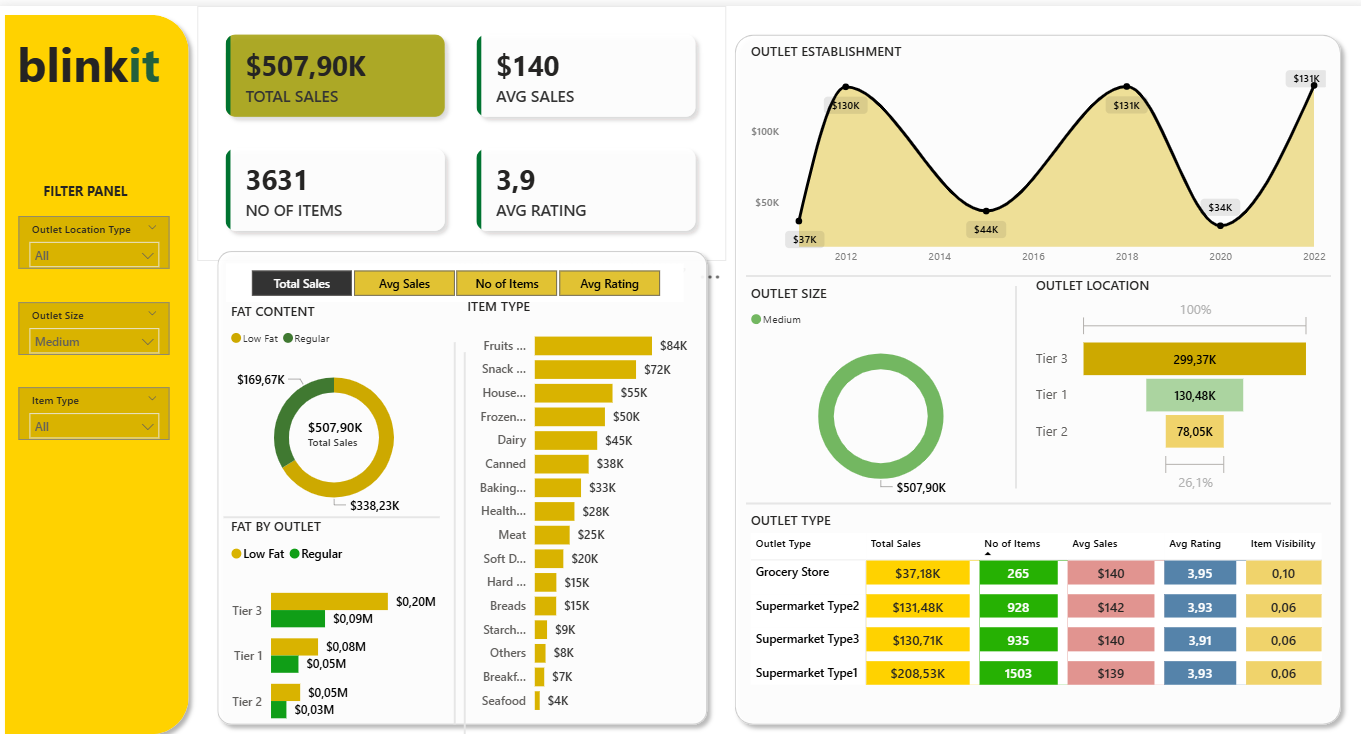

What the dashboard file says about the page in this screenshot:
{"tool":"powerbi","page":{"name":"Page 1","canvas":[1400,800],"ordinal":0},"visuals":[{"type":"shape","box":[0,0,205,750],"z":0},{"type":"textbox","box":[16.5,20.3,171.7,75],"z":1000},{"type":"textbox","box":[12.7,78.9,175.5,31.8],"z":2000},{"type":"cardVisual","fields":{"Data":["BlinkIT Grocery Data.Total Sales","BlinkIT Grocery Data.Avg Sales","BlinkIT Grocery Data.No of Items","BlinkIT Grocery Data.Avg Rating"]},"box":[204.8,0,538,259.4],"z":3000},{"type":"shape","box":[216.2,240.4,516.4,499.8],"z":4000},{"type":"donutChart","title":" FAT CONTENT","fields":{"Y":["BlinkIT Grocery Data.Total Sales"],"Category":["BlinkIT Grocery Data.Item Fat Content"]},"box":[234,301.4,220,230.2],"z":5000},{"type":"slicer","fields":{"Values":["Metrics.Metrics"]},"box":[234,262,465.5,39.4],"z":6000},{"type":"cardVisual","fields":{"Data":["BlinkIT Grocery Data.Total Sales"]},"box":[300.1,400.6,153.9,68.7],"z":7000},{"type":"clusteredBarChart","title":"FAT BY OUTLET","fields":{"Y":["BlinkIT Grocery Data.Total Sales"],"Category":["BlinkIT Grocery Data.Outlet Location Type"],"Series":["BlinkIT Grocery Data.Item Fat Content"]},"box":[234,520.2,220,230.2],"z":8000},{"type":"shape","box":[231.5,515.1,220,10.2],"z":9000},{"type":"shape","box":[451.5,342.1,30.5,389.2],"z":10000},{"type":"barChart","title":" ITEM TYPE","fields":{"Y":["BlinkIT Grocery Data.Total Sales"],"Category":["BlinkIT Grocery Data.Item Type"]},"box":[474.4,296.3,242.9,435],"z":11000},{"type":"shape","box":[742.7,20.3,634.6,719.8],"z":12000},{"type":"lineChart","title":"OUTLET ESTABLISHMENT","fields":{"Category":["BlinkIT Grocery Data.Outlet Establishment Year"],"Y":["BlinkIT Grocery Data.Total Sales"]},"box":[763.1,36.9,595.2,235.3],"z":13000},{"type":"shape","box":[763.1,498.5,595.2,15.3],"z":14000},{"type":"donutChart","title":" OUTLET SIZE","fields":{"Y":["BlinkIT Grocery Data.Total Sales"],"Category":["BlinkIT Grocery Data.Outlet Size"]},"box":[763.1,282.3,274.7,225.1],"z":15000},{"type":"shape","box":[1022.5,284.9,30.5,206],"z":16000},{"type":"funnel","title":" OUTLET LOCATION","fields":{"Y":["Sum(BlinkIT Grocery Data.Sales)"],"Category":["BlinkIT Grocery Data.Outlet Location Type"]},"box":[1053.1,274.7,290,225.1],"z":17000},{"type":"shape","box":[461.5,352.1,30.5,389.2],"z":18000},{"type":"shape","box":[763.1,267.1,595.2,15.3],"z":19000},{"type":"pivotTable","title":" OUTLET TYPE","fields":{"Rows":["BlinkIT Grocery Data.Outlet Type"],"Values":["BlinkIT Grocery Data.Total Sales","BlinkIT Grocery Data.No of Items","BlinkIT Grocery Data.Avg Sales","BlinkIT Grocery Data.Avg Rating","Avg(BlinkIT Grocery Data.Item Visibility)"]},"box":[763.1,513.8,595.2,217.5],"z":20000},{"type":"slicer","fields":{"Values":["BlinkIT Grocery Data.Outlet Location Type"]},"box":[22.9,213.7,153.9,53.4],"z":21000},{"type":"slicer","fields":{"Values":["BlinkIT Grocery Data.Outlet Size"]},"box":[22.9,301.4,153.9,53.4],"z":22000},{"type":"slicer","fields":{"Values":["BlinkIT Grocery Data.Item Type"]},"box":[22.9,387.9,153.9,53.4],"z":23000},{"type":"textbox","box":[43.2,174.2,133.5,39.4],"z":24000}]}

Visuals, with their boxes on the page's 1400x800 design canvas (x1, y1, x2, y2). These are canvas units, not pixel positions in the 1361x734 screenshot, which may show the page scaled, cropped or inside an application window:
shape: bbox=[0, 0, 205, 750]
textbox: bbox=[16, 20, 188, 95]
textbox: bbox=[13, 79, 188, 111]
cardVisual - BlinkIT Grocery Data.Total Sales x BlinkIT Grocery Data.Avg Sales: bbox=[205, 0, 743, 259]
shape: bbox=[216, 240, 733, 740]
" FAT CONTENT" donutChart: bbox=[234, 301, 454, 532]
slicer - Metrics.Metrics: bbox=[234, 262, 700, 301]
cardVisual - BlinkIT Grocery Data.Total Sales: bbox=[300, 401, 454, 469]
"FAT BY OUTLET" clusteredBarChart: bbox=[234, 520, 454, 750]
shape: bbox=[232, 515, 452, 525]
shape: bbox=[452, 342, 482, 731]
" ITEM TYPE" barChart: bbox=[474, 296, 717, 731]
shape: bbox=[743, 20, 1377, 740]
"OUTLET ESTABLISHMENT" lineChart: bbox=[763, 37, 1358, 272]
shape: bbox=[763, 498, 1358, 514]
" OUTLET SIZE" donutChart: bbox=[763, 282, 1038, 507]
shape: bbox=[1022, 285, 1053, 491]
" OUTLET LOCATION" funnel: bbox=[1053, 275, 1343, 500]
shape: bbox=[462, 352, 492, 741]
shape: bbox=[763, 267, 1358, 282]
" OUTLET TYPE" pivotTable: bbox=[763, 514, 1358, 731]
slicer - BlinkIT Grocery Data.Outlet Location Type: bbox=[23, 214, 177, 267]
slicer - BlinkIT Grocery Data.Outlet Size: bbox=[23, 301, 177, 355]
slicer - BlinkIT Grocery Data.Item Type: bbox=[23, 388, 177, 441]
textbox: bbox=[43, 174, 177, 214]
